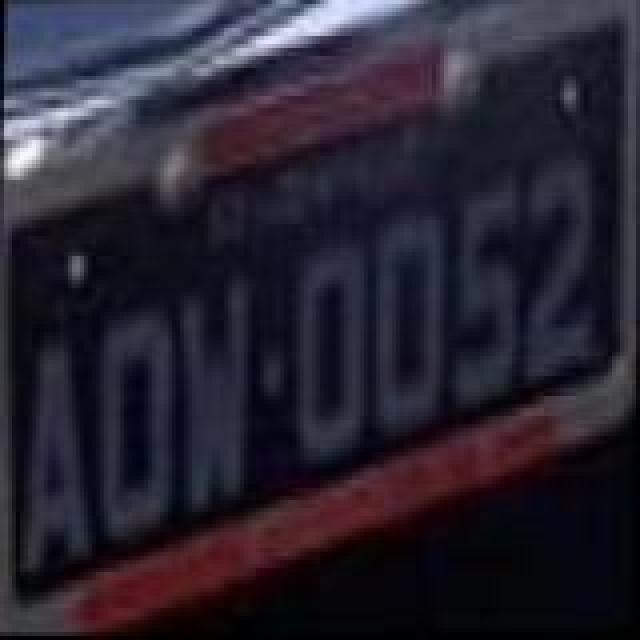2: (514, 154, 602, 386)
5: (448, 174, 524, 410)
A: (16, 344, 96, 576)
O: (92, 310, 180, 542), (290, 236, 378, 468), (370, 212, 450, 440)
W: (172, 278, 252, 514)
